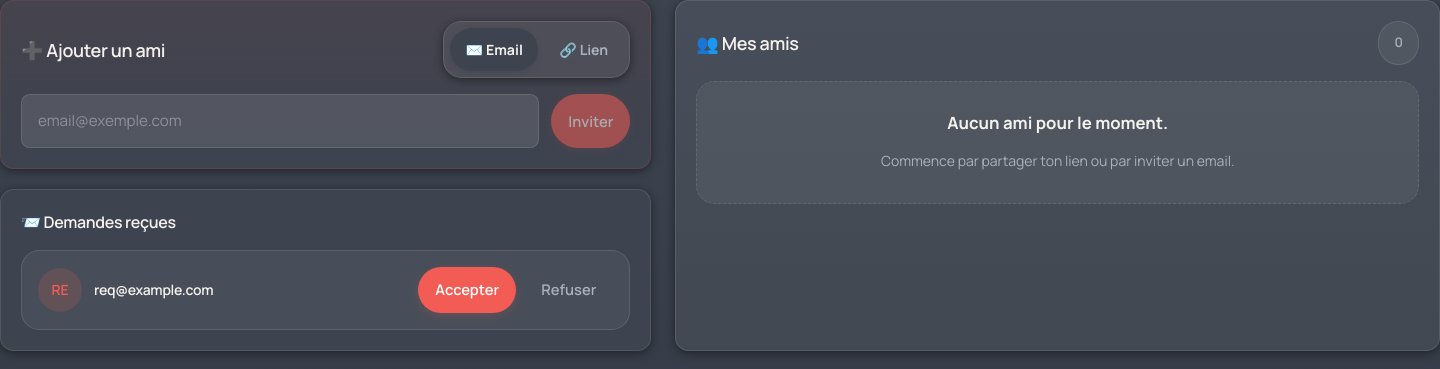
Test: FriendsClient › accepter une demande reçue la déplace dans Mes amis
Check: the heading "📨 Demandes reçues" is shown, box [21,211,176,233]
Click the button "Accepter". click: [467, 290]
box: [418,267,516,313]
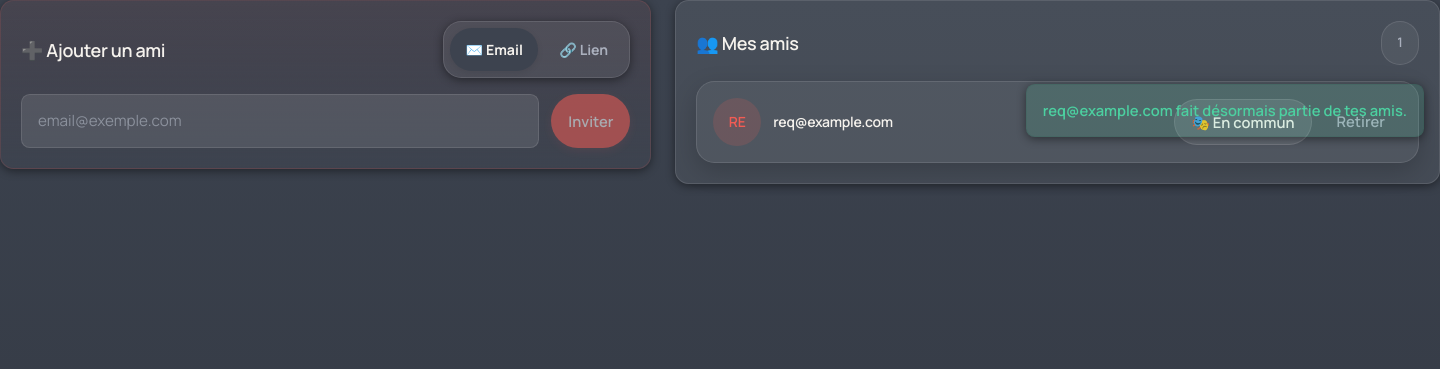
Check: the heading "Demandes reçues" is gone
Check: the text "req@example.com" is shown, box [773,112,893,132]
